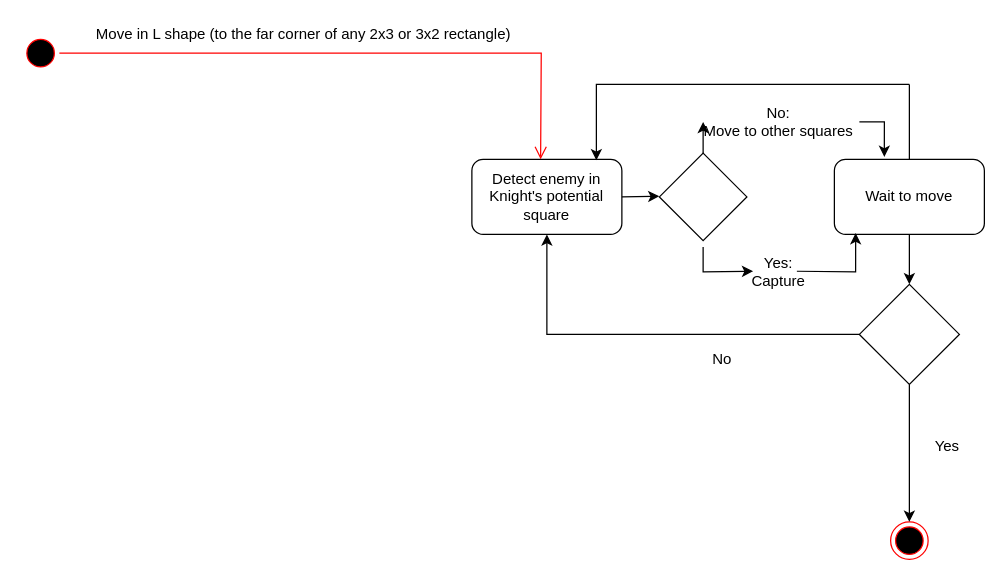
The diagram is 1006 pixels wide and 581 high, and some of its shapes have lost their labels. Here are the shapes that lost their labels. From the top down, the centre of each, then its label:
At (x=702, y=196): "isEnemy".
At (x=908, y=333): "isCaptured".
